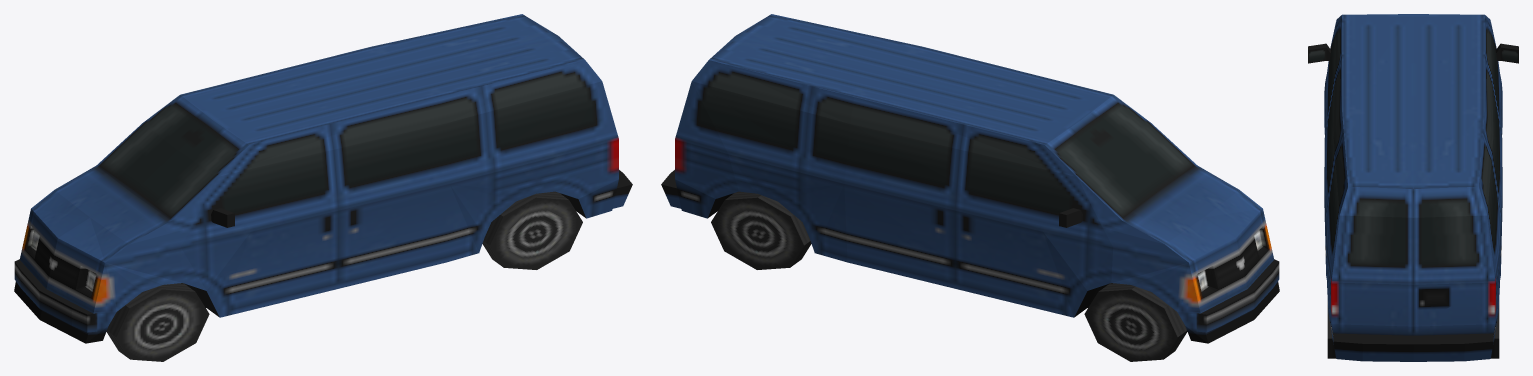
The model's file is Car4_o2.obj.
The picture shows the model from 3 angles, left to right: view 1: azimuth 30°, elevation 25°; view 2: azimuth 150°, elevation 25°; view 3: azimuth 270°, elevation 25°; orthographic projection. The views are drawn at different scales.
Parts seen in each view (by area): view 1: Car4; view 2: Car4; view 3: Car4.
Part boxes in pixels (x1,y1,x2,y2): Car4: (14,14,632,361); Car4: (661,14,1279,361); Car4: (1308,14,1518,361).
Size of the model in its own units: 4.93 by 1.6 by 1.55.
